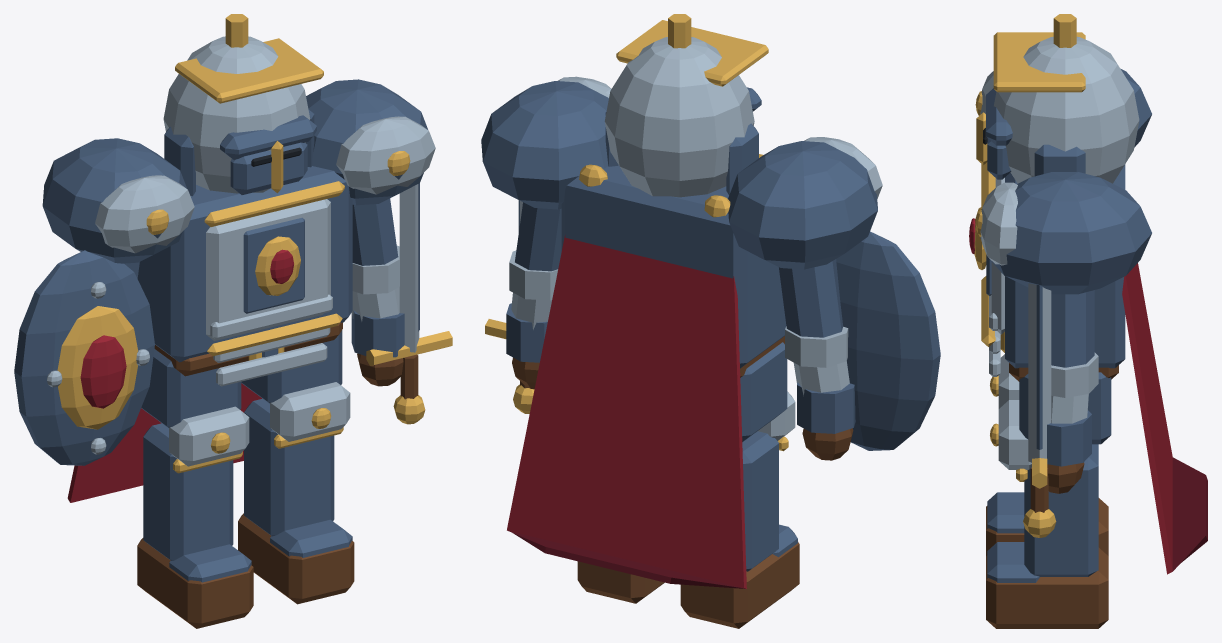
The model's file is Caballero.glb.
3 views of the same model, side by side, from view 1: azimuth 30°, elevation 25°; view 2: azimuth 150°, elevation 25°; view 3: azimuth 270°, elevation 25° (orthographic). The views are drawn at different scales.
Visible parts, largest first — view 1: Escudo_Acero, Torso_Armadura, Casco_Base, Hombrera_Izquierda, Greba_Izquierda, Greba_Derecha, Pechera_Central, Hombrera_Derecha, Bota_Izquierda, Centro_Escudo, Placa_Hombrera_Izquierda, Bota_Derecha (+33 smaller); view 2: Capa_Carmesi, Casco_Base, Escudo_Acero, Torso_Armadura, Hombrera_Izquierda, Hombrera_Derecha, Bota_Izquierda, Greba_Izquierda, Brazo_Izquierda, Muslera_Izquierda, Borde_Casco, Brazo_Derecha (+12 smaller); view 3: Hombrera_Derecha, Casco_Base, Capa_Carmesi, Bota_Derecha, Greba_Derecha, Torso_Armadura, Borde_Casco, Brazo_Derecha, Hoja_Espada, Placa_Hombrera_Derecha, Guantelete_Derecha, Muslera_Derecha (+23 smaller).
Boxes of the visible parts, x1,y1,x2,y2 form: Escudo_Acero: (14, 250, 154, 465); Torso_Armadura: (137, 166, 352, 362); Casco_Base: (163, 36, 310, 193); Hombrera_Izquierda: (42, 138, 186, 263); Greba_Izquierda: (143, 423, 233, 560); Greba_Derecha: (244, 398, 334, 536); Pechera_Central: (206, 199, 330, 340); Hombrera_Derecha: (306, 79, 427, 205); Bota_Izquierda: (137, 538, 253, 628); Centro_Escudo: (57, 306, 138, 429); Placa_Hombrera_Izquierda: (95, 175, 194, 253); Bota_Derecha: (238, 513, 354, 604); Capa_Carmesi: (507, 235, 746, 588); Casco_Base: (604, 37, 754, 197); Escudo_Acero: (836, 231, 940, 450); Torso_Armadura: (561, 165, 786, 368); Hombrera_Izquierda: (728, 141, 877, 269); Hombrera_Derecha: (481, 81, 608, 209); Bota_Izquierda: (680, 542, 799, 628); Greba_Izquierda: (742, 431, 778, 571); Brazo_Izquierda: (779, 259, 843, 337); Muslera_Izquierda: (740, 342, 787, 441); Borde_Casco: (616, 20, 768, 86); Brazo_Derecha: (515, 202, 561, 271); Hombrera_Derecha: (980, 172, 1151, 294); Casco_Base: (994, 36, 1139, 183); Capa_Carmesi: (1122, 263, 1207, 574); Bota_Derecha: (986, 547, 1108, 628); Greba_Derecha: (1024, 444, 1098, 576); Torso_Armadura: (1005, 164, 1125, 368); Borde_Casco: (993, 32, 1085, 92); Brazo_Derecha: (1051, 290, 1094, 367); Hoja_Espada: (1028, 283, 1051, 462); Placa_Hombrera_Derecha: (980, 182, 1017, 265); Guantelete_Derecha: (1047, 410, 1091, 466); Muslera_Derecha: (1019, 372, 1111, 444).
Size of the model in its own units: 1.98 by 2.47 by 0.9334.
